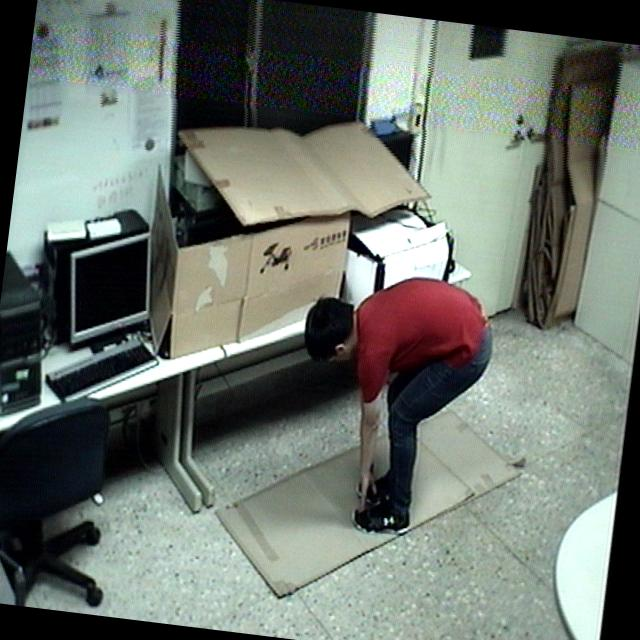bend: (273, 252, 508, 556)
